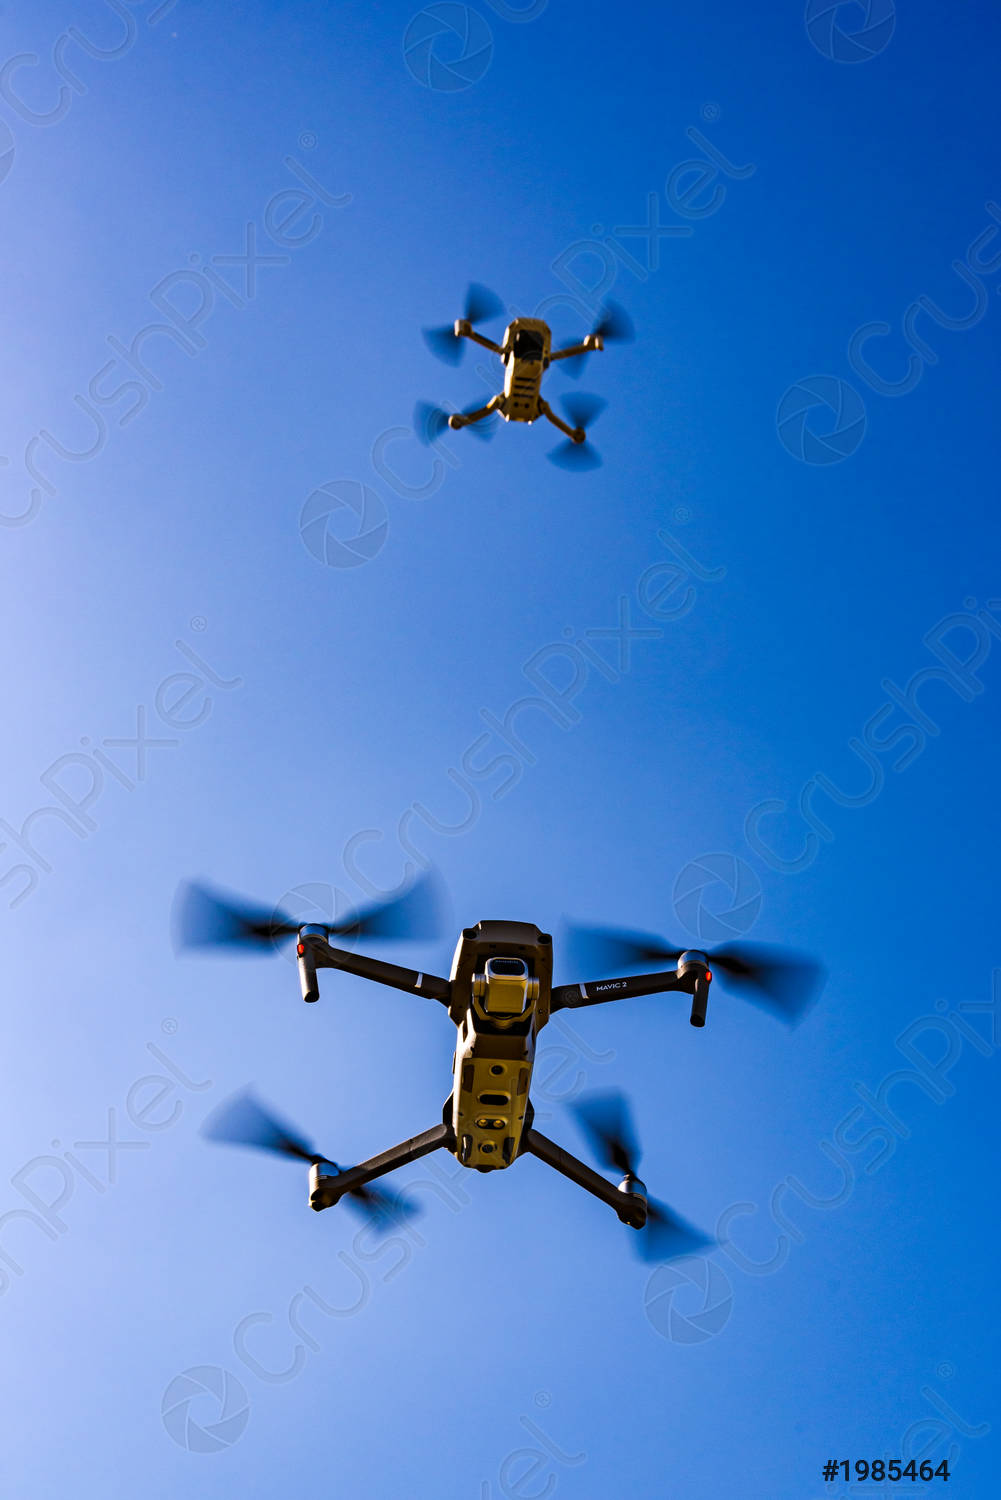drone: (170, 861, 824, 1268), (414, 287, 626, 471)
